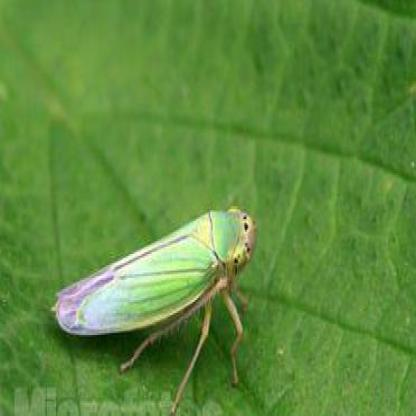Green-Leafhopper: (51, 203, 255, 416)
